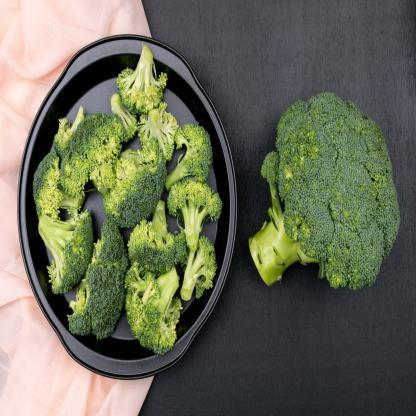broccoli: (33, 42, 224, 355)
